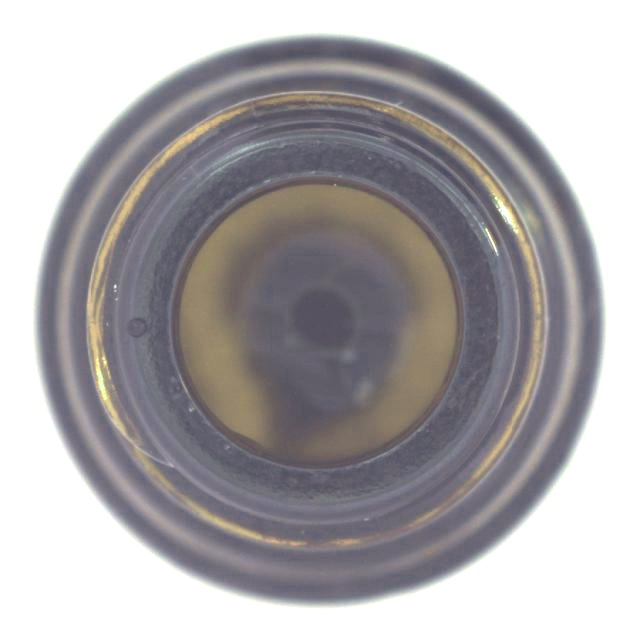bad-contamination: (31, 32, 608, 612)
